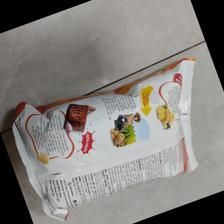Lays: (11, 55, 201, 224)
